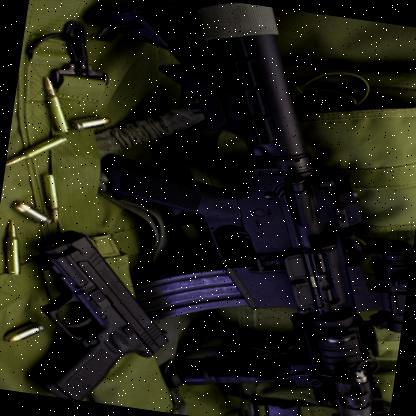rifle: (67, 0, 416, 416), (0, 224, 189, 412)
